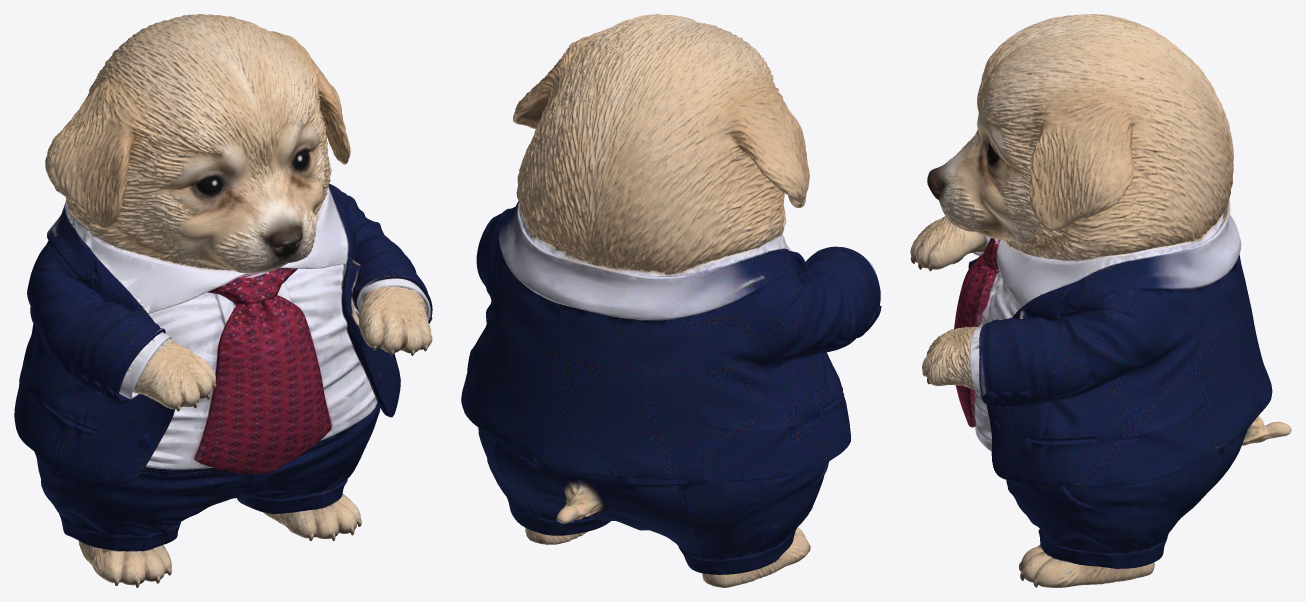
Rendered from pupper-executive.glb.
3 views of the same model, side by side, from view 1: azimuth 30°, elevation 25°; view 2: azimuth 150°, elevation 25°; view 3: azimuth 270°, elevation 25° (orthographic). The views are drawn at different scales.
Bounding box in the file's own units: 1.39 × 1.9 × 1.31.
1 material, 1 textured.
